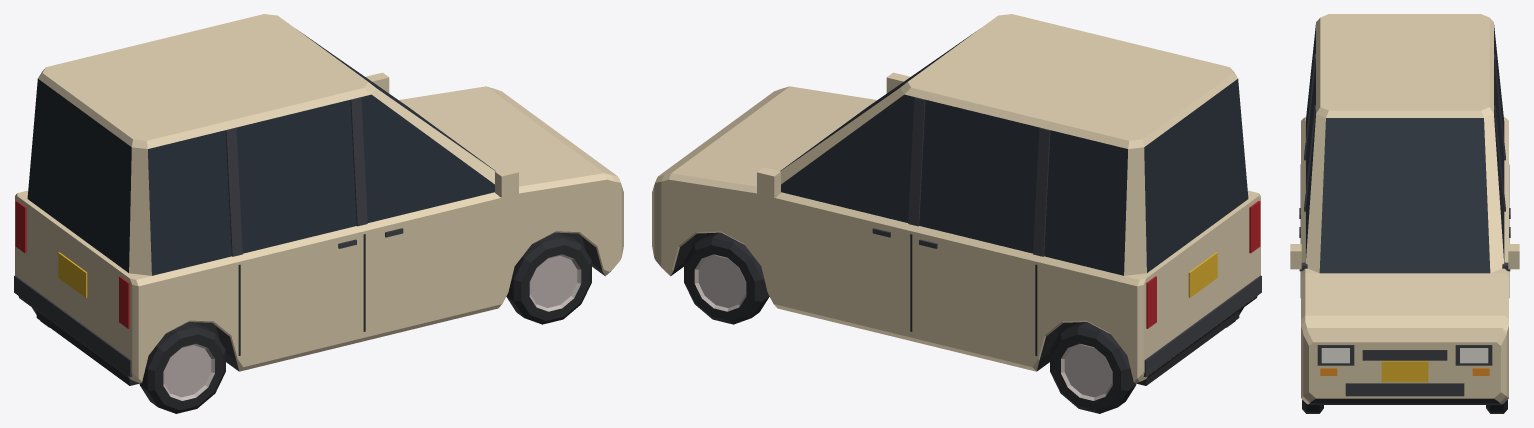
File: SM_Street_KeiCar_Wagon_Beige_01.gltf
3 renders of one model, left to right at view 1: azimuth 30°, elevation 25°; view 2: azimuth 150°, elevation 25°; view 3: azimuth 270°, elevation 25°, orthographic. The views are drawn at different scales.
Parts seen in each view (by area): view 1: SM_Street_KeiCar_Wagon_Beige_01; view 2: SM_Street_KeiCar_Wagon_Beige_01; view 3: SM_Street_KeiCar_Wagon_Beige_01.
Part boxes in pixels (box(x1,y1,x2,y2)): SM_Street_KeiCar_Wagon_Beige_01: box(14, 14, 623, 413); SM_Street_KeiCar_Wagon_Beige_01: box(652, 14, 1261, 413); SM_Street_KeiCar_Wagon_Beige_01: box(1290, 14, 1519, 413).
Bounding box in the file's own units: 3.42 × 1.79 × 1.62.
Materials: 1 (1 with a texture image).
